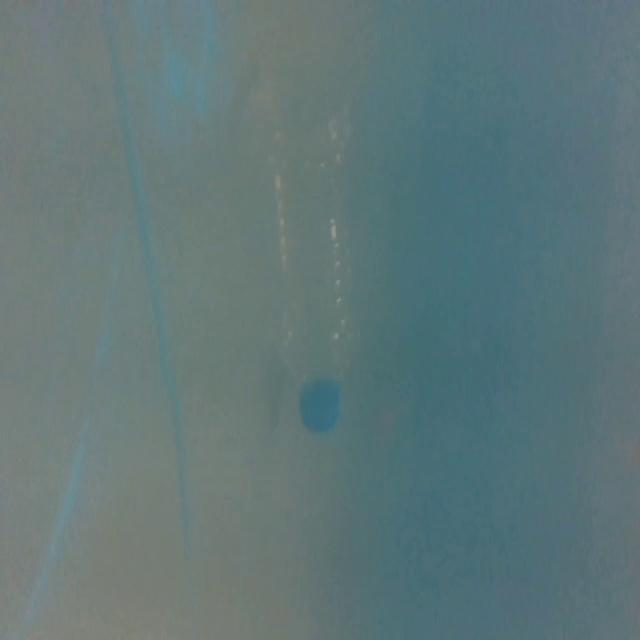plastic bottle: (245, 86, 372, 442)
